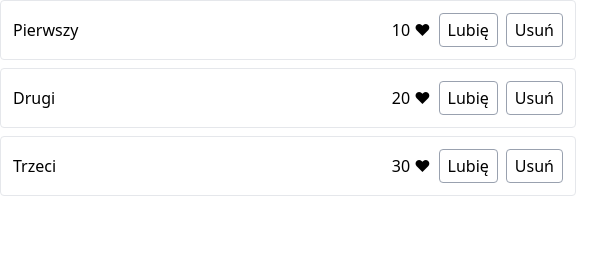
Test: PostList › lets the user dismiss the error
Expected: the text "Pierwszy" is shown, x1=13 y1=18 x2=78 y2=42
Click the button with aria-label "Polub: Pierwszy". click: (468, 30)
box: x1=439 y1=13 x2=498 y2=47
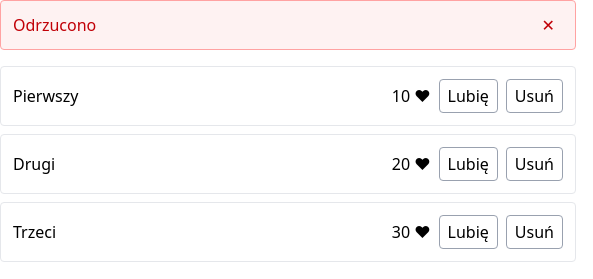
Expected: the message "Odrzucono ✕" is shown, x1=0 y1=0 x2=576 y2=50
Click the button named "Zamknij komunikat". click: (548, 25)
box: x1=534 y1=13 x2=563 y2=37
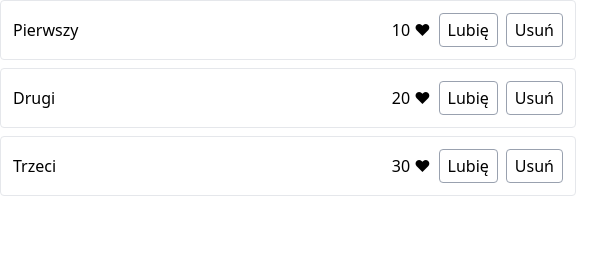
Expected: the message "Odrzucono ✕" is gone
